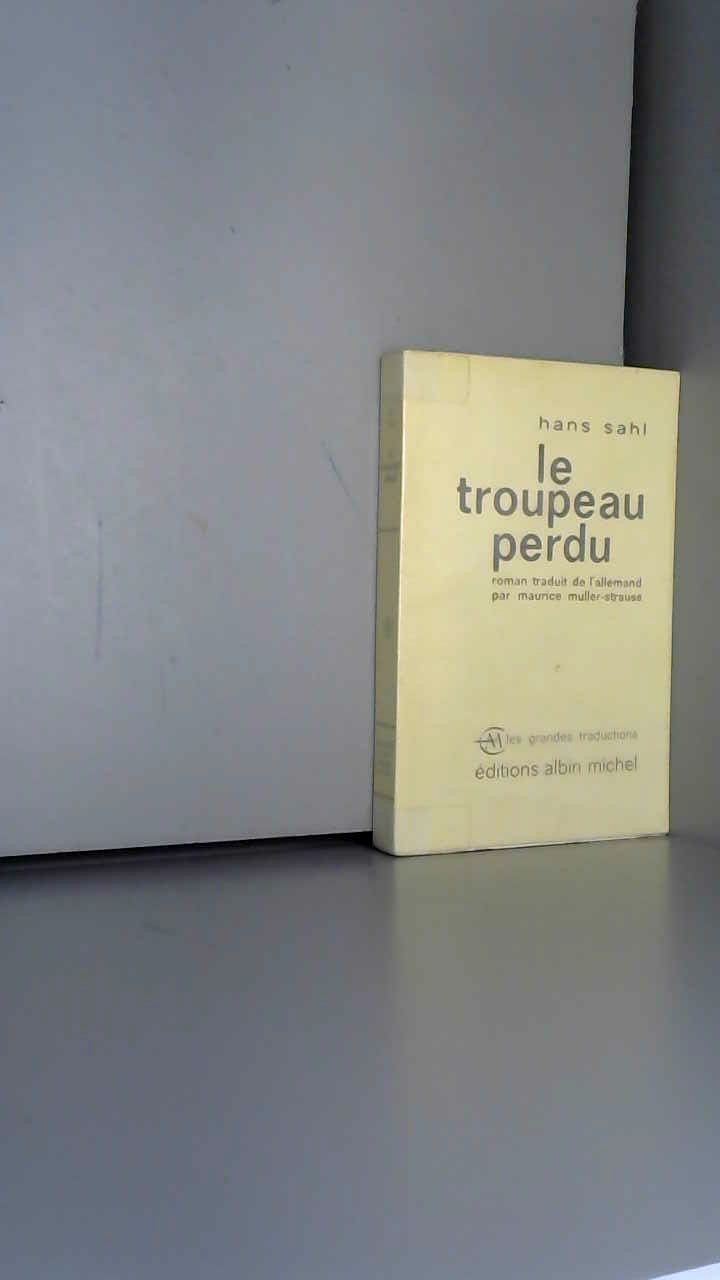book: (370, 320, 720, 879)
